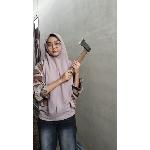Kapak: (64, 34, 94, 82)
